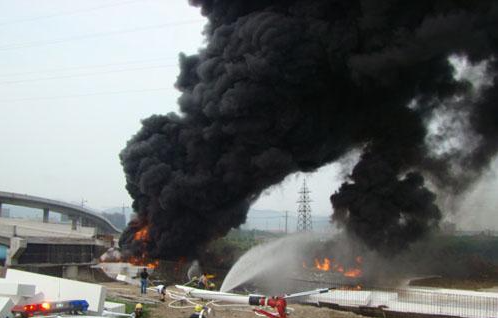喷灌水雾: (219, 226, 387, 293)
